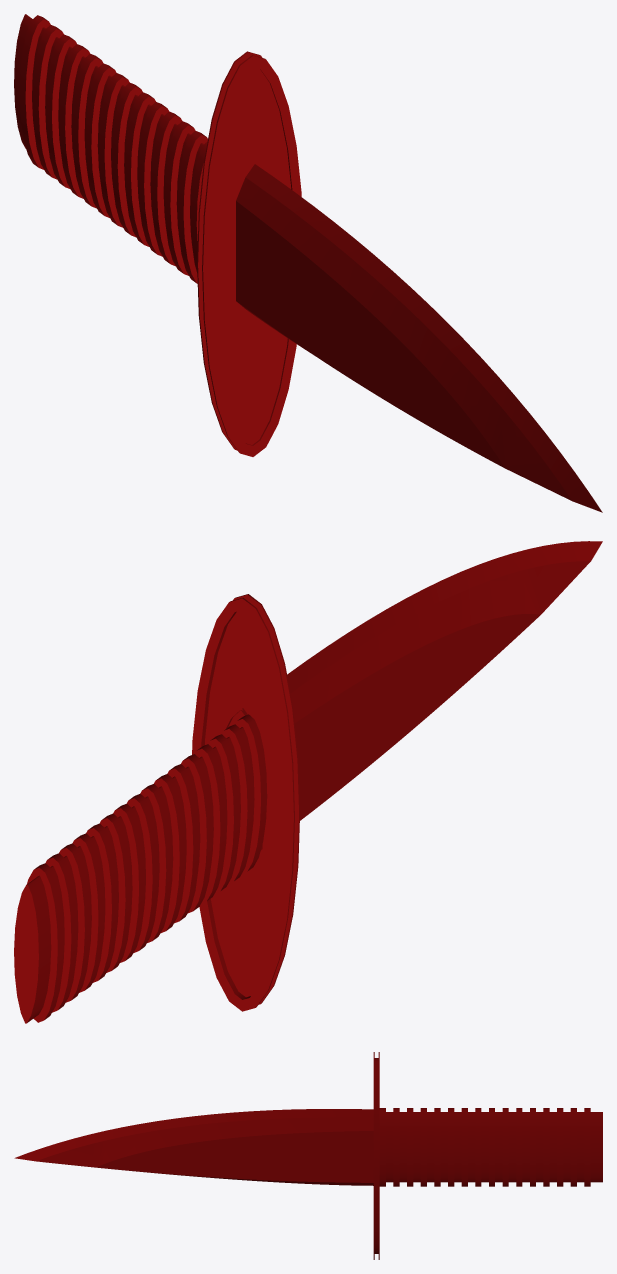
Rendered from model_scale.obj.
The picture shows the model from 3 angles, top to bottom: view 1: azimuth 30°, elevation 25°; view 2: azimuth 150°, elevation 25°; view 3: azimuth 270°, elevation 25°; orthographic projection. The views are drawn at different scales.
Visible parts, largest first — view 1: mesh11_mesh11-geometry, mesh15_mesh15-geometry, mesh1_mesh1-geometry; view 2: mesh15_mesh15-geometry, mesh11_mesh11-geometry, mesh1_mesh1-geometry; view 3: mesh11_mesh11-geometry, mesh15_mesh15-geometry, mesh1_mesh1-geometry.
Part boxes in pixels (<box>): mesh11_mesh11-geometry: <box>236,164,602,512</box>; mesh15_mesh15-geometry: <box>14,14,207,283</box>; mesh1_mesh1-geometry: <box>197,51,301,456</box>; mesh15_mesh15-geometry: <box>14,714,267,1023</box>; mesh11_mesh11-geometry: <box>226,541,602,849</box>; mesh1_mesh1-geometry: <box>192,594,299,1011</box>; mesh11_mesh11-geometry: <box>14,1109,373,1185</box>; mesh15_mesh15-geometry: <box>379,1108,602,1186</box>; mesh1_mesh1-geometry: <box>373,1052,379,1259</box>.
Size of the model in its own units: 0.0197 by 0.0753 by 0.1932.
